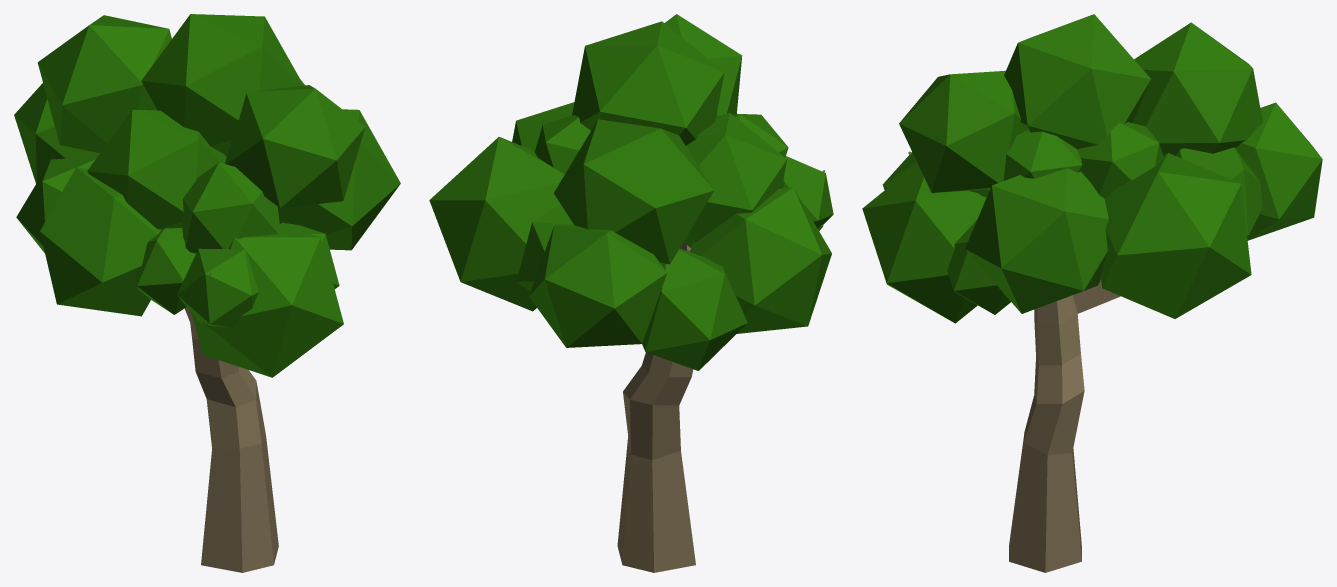
The model's file is treeLODSv1 (1).fbx.
3 renders of one model, left to right at view 1: azimuth 30°, elevation 25°; view 2: azimuth 150°, elevation 25°; view 3: azimuth 270°, elevation 25°, orthographic.
Visible parts, largest first — view 1: Tree_LOD0; view 2: Tree_LOD0; view 3: Tree_LOD0.
Part boxes in pixels (x1,y1,x2,y2): Tree_LOD0: (14,14,400,572); Tree_LOD0: (429,14,833,572); Tree_LOD0: (862,14,1322,572).
Size of what is drawn, in the model's own units: 5.12 by 7.98 by 6.31.
